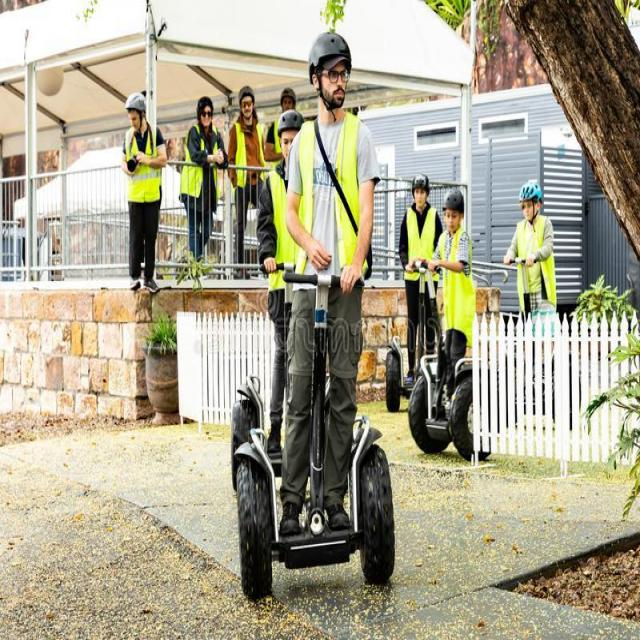Reflective-Jacket: (294, 108, 369, 282), (436, 227, 480, 337), (513, 214, 559, 304), (179, 121, 225, 202), (122, 125, 164, 205), (402, 206, 438, 284), (231, 118, 266, 190)
Safety-Helmet: (303, 27, 354, 74), (122, 88, 150, 115), (518, 178, 544, 203), (443, 187, 466, 209)
